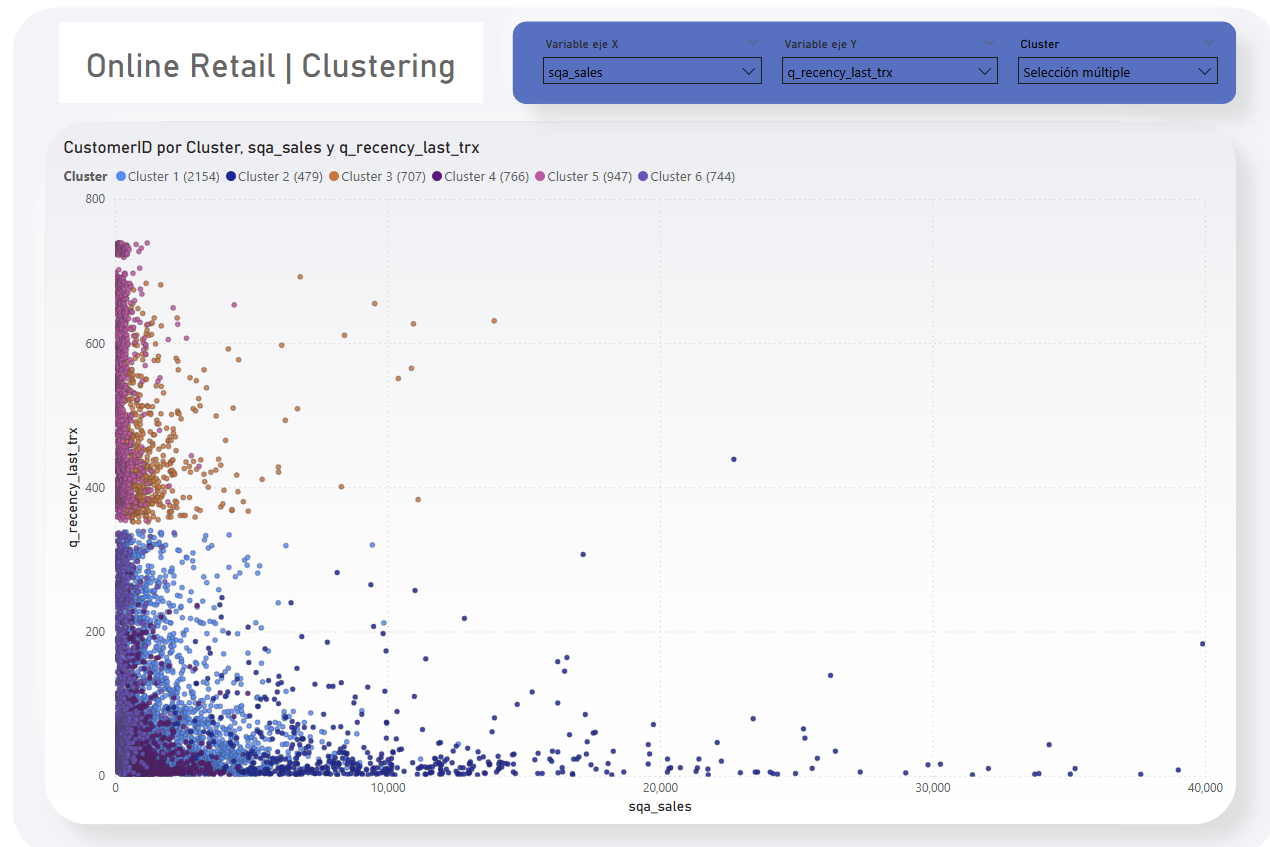

What the dashboard file says about the page in this screenshot:
{"tool":"powerbi","page":{"name":"Gráfico","canvas":[1360,900],"ordinal":0},"visuals":[{"type":"scatterChart","fields":{"X":["cluster_output.sqa_sales"],"Y":["cluster_output.q_recency_last_trx"],"Series":["cluster_output.cluster_result"]},"box":[105,151,1169,682],"z":0},{"type":"slicer","fields":{"Values":["cluster_output.cluster_result"]},"box":[1054,46,220,59],"z":1000},{"type":"slicer","fields":{"Values":["Variable eje X.Variable eje X"]},"box":[579,46,239,59],"z":2000},{"type":"slicer","fields":{"Values":["Variable eje Y.Variable eje Y"]},"box":[818,46,236,59],"z":3000},{"type":"card","fields":{"Values":["cluster_output.sheet1_title"]},"box":[105,36,424,81],"z":4000}]}

Visuals, with their boxes in screenshot pixels (x1, y1, x2, y2), scaled from the page's 1360x900 canvas onto the 1270x847 screenshot:
scatterChart - cluster_output.sqa_sales x cluster_output.q_recency_last_trx: {"left": 98, "top": 142, "right": 1190, "bottom": 784}
slicer - cluster_output.cluster_result: {"left": 984, "top": 43, "right": 1190, "bottom": 99}
slicer - Variable eje X.Variable eje X: {"left": 541, "top": 43, "right": 764, "bottom": 99}
slicer - Variable eje Y.Variable eje Y: {"left": 764, "top": 43, "right": 984, "bottom": 99}
card - cluster_output.sheet1_title: {"left": 98, "top": 34, "right": 494, "bottom": 110}
